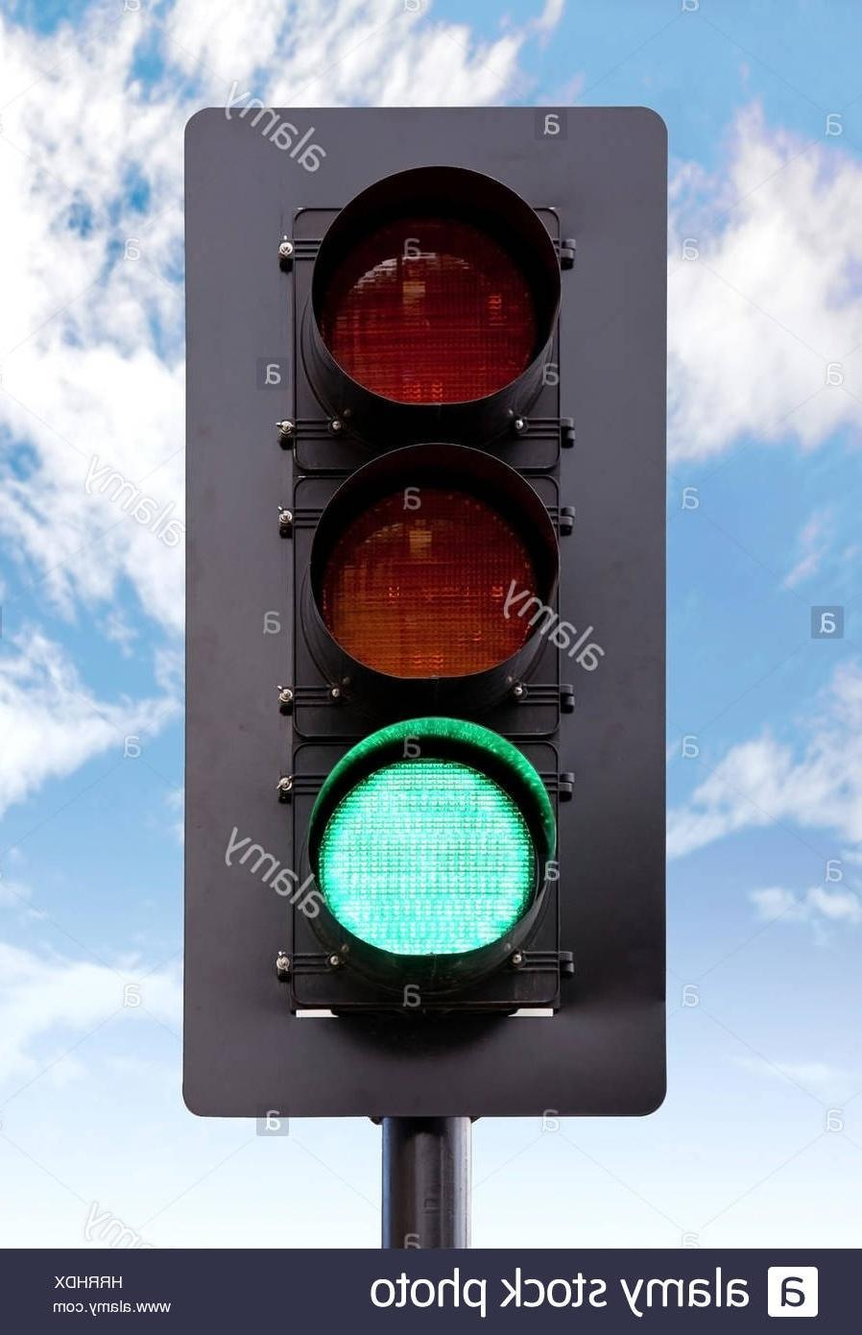green: (202, 106, 678, 1104)
